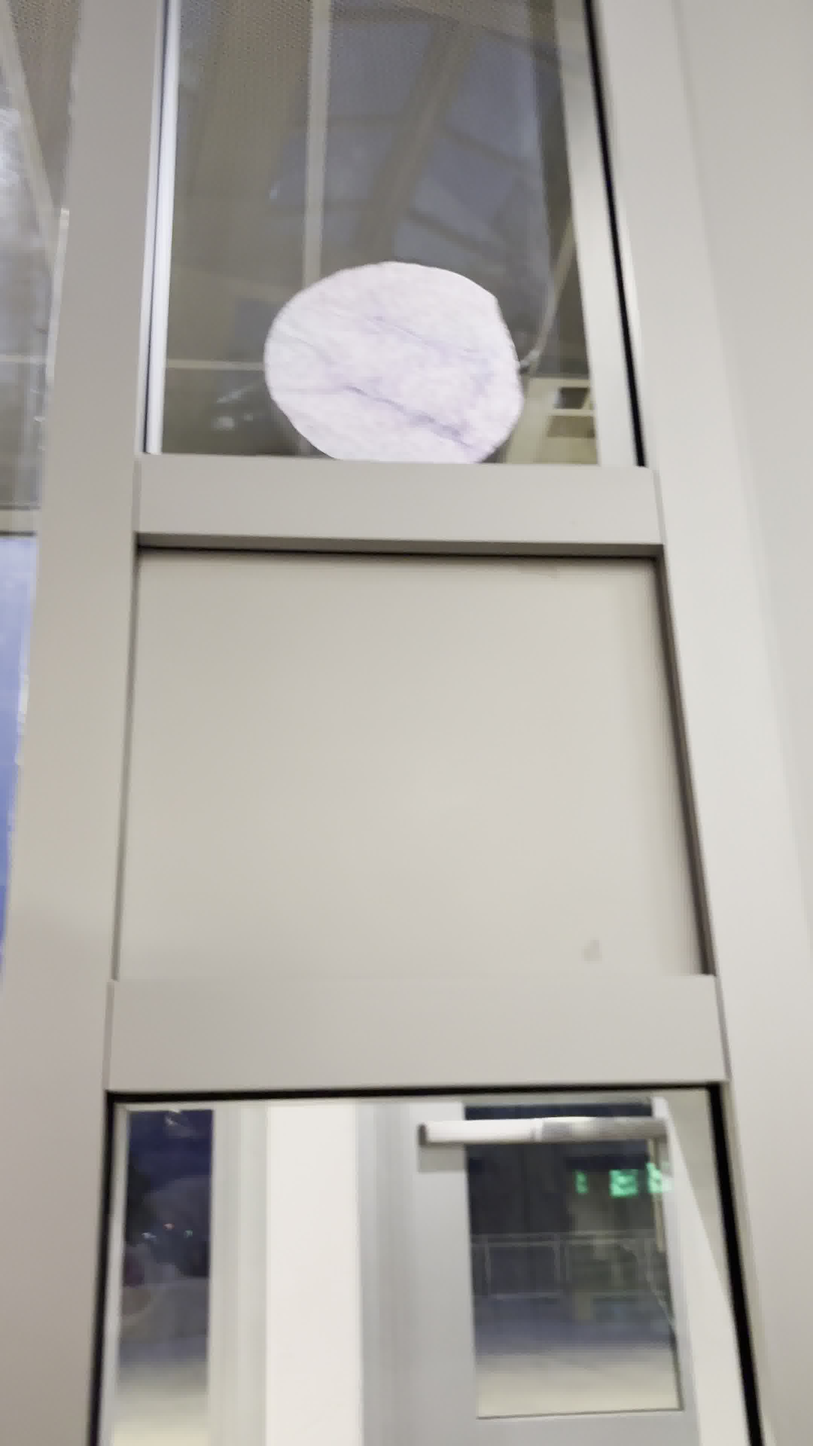Target: (260, 257, 531, 472)
